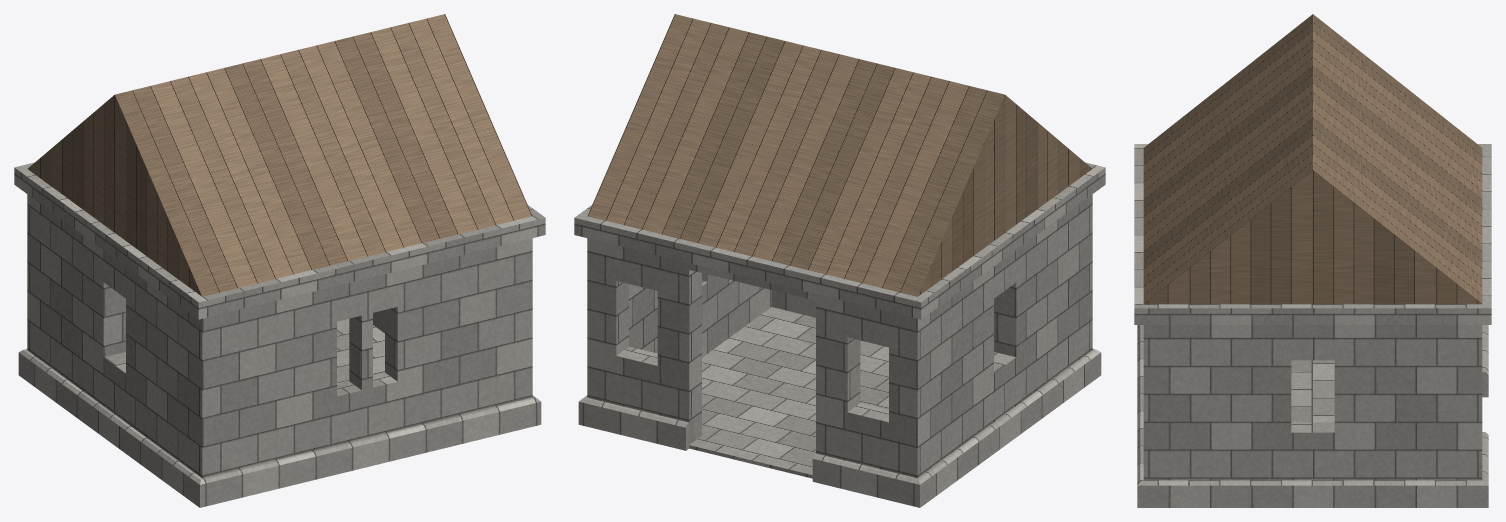
The model's file is house_c.glb.
The picture shows the model from 3 angles, left to right: view 1: azimuth 30°, elevation 25°; view 2: azimuth 150°, elevation 25°; view 3: azimuth 270°, elevation 25°; orthographic projection. The views are drawn at different scales.
Parts seen in each view (by area): view 1: roof_timber, body_stone, trim_stone; view 2: roof_timber, body_stone, trim_stone; view 3: roof_timber, body_stone, trim_stone.
Part boxes in pixels (x1,y1,x2,y2): roof_timber: (27, 14, 532, 296); body_stone: (27, 194, 532, 478); trim_stone: (14, 162, 545, 507); roof_timber: (587, 14, 1092, 296); body_stone: (587, 194, 1092, 478); trim_stone: (574, 162, 1105, 507); roof_timber: (1143, 14, 1482, 304); body_stone: (1143, 325, 1482, 480); trim_stone: (1134, 144, 1491, 507).
Size of the model in its own units: 6.3 by 6 by 5.8.
3 materials, 3 textured.
